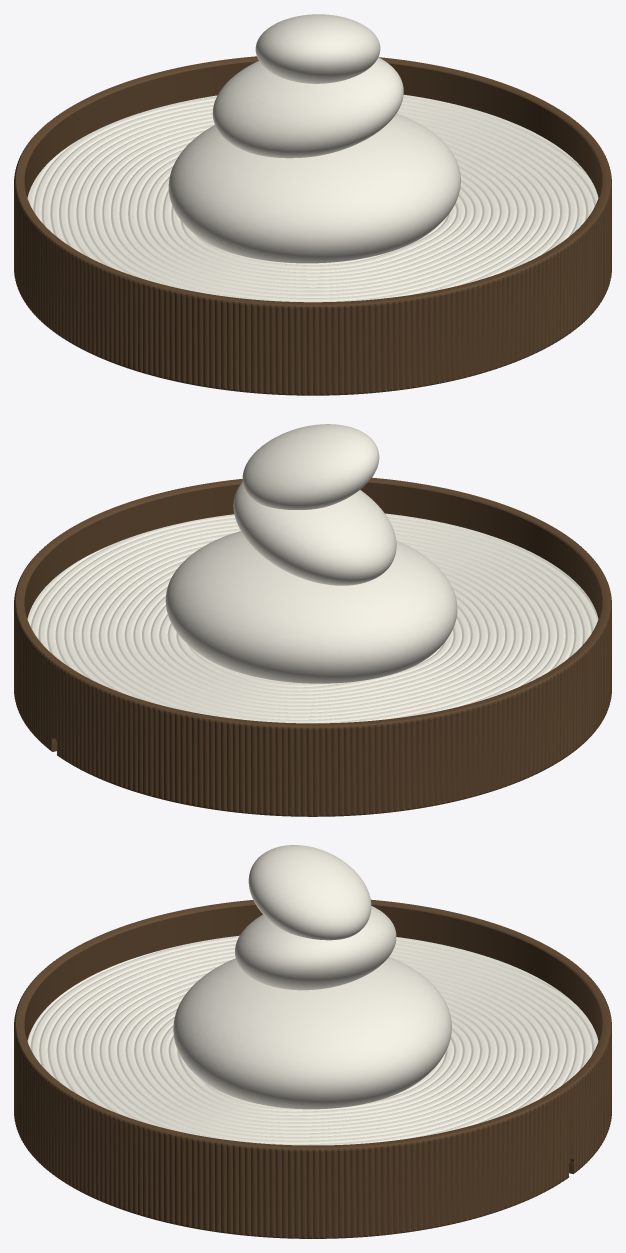
File: maru.glb
3 views of the same model, one above another, from view 1: azimuth 30°, elevation 25°; view 2: azimuth 150°, elevation 25°; view 3: azimuth 270°, elevation 25° (orthographic).
Visible parts, largest first — view 1: MARU_Base, MARU_Disc, MARU_Three_Stones; view 2: MARU_Base, MARU_Disc, MARU_Three_Stones; view 3: MARU_Base, MARU_Disc, MARU_Three_Stones.
Boxes of the visible parts, box(x1,y1,x2,y2) form: MARU_Base: box(14, 56, 611, 395); MARU_Disc: box(27, 94, 598, 302); MARU_Three_Stones: box(168, 14, 460, 263); MARU_Base: box(14, 477, 611, 816); MARU_Disc: box(27, 513, 598, 723); MARU_Three_Stones: box(165, 424, 457, 683); MARU_Base: box(14, 899, 611, 1238); MARU_Disc: box(27, 935, 598, 1145); MARU_Three_Stones: box(173, 845, 451, 1109).
Bounding box in the file's own units: 0.18 × 0.0845 × 0.18.
